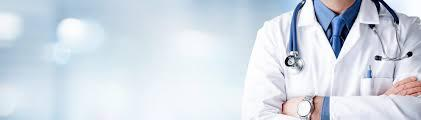Textile: (237, 9, 421, 120)
